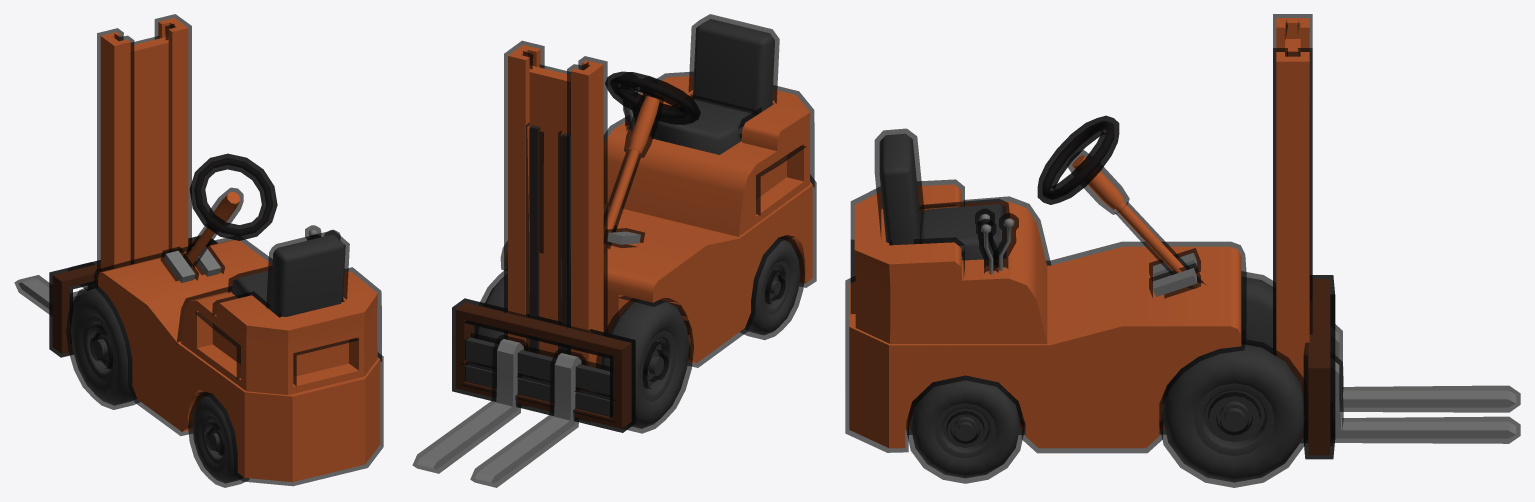
File: forklifty.fbx
3 views of the same model, side by side, from view 1: azimuth 30°, elevation 25°; view 2: azimuth 150°, elevation 25°; view 3: azimuth 270°, elevation 25° (orthographic). The views are drawn at different scales.
Visible parts, largest first — view 1: pCube62; view 2: pCube62; view 3: pCube62.
Part boxes in pixels (box(x1,y1,x2,y2)): pCube62: box(14, 14, 383, 487); pCube62: box(412, 14, 816, 487); pCube62: box(845, 14, 1520, 487).
Size of the model in its own units: 136 by 284 by 421.
